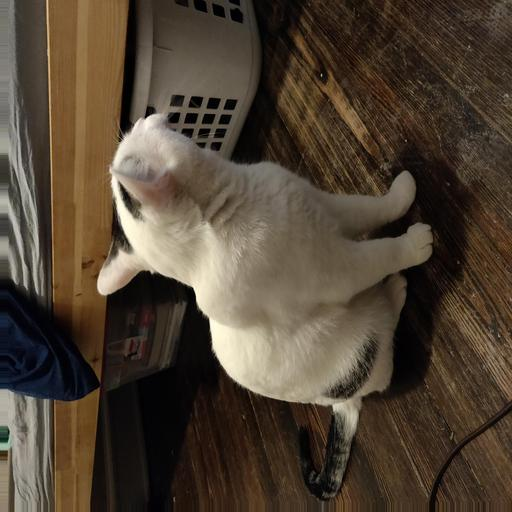cat: (91, 106, 373, 388)
